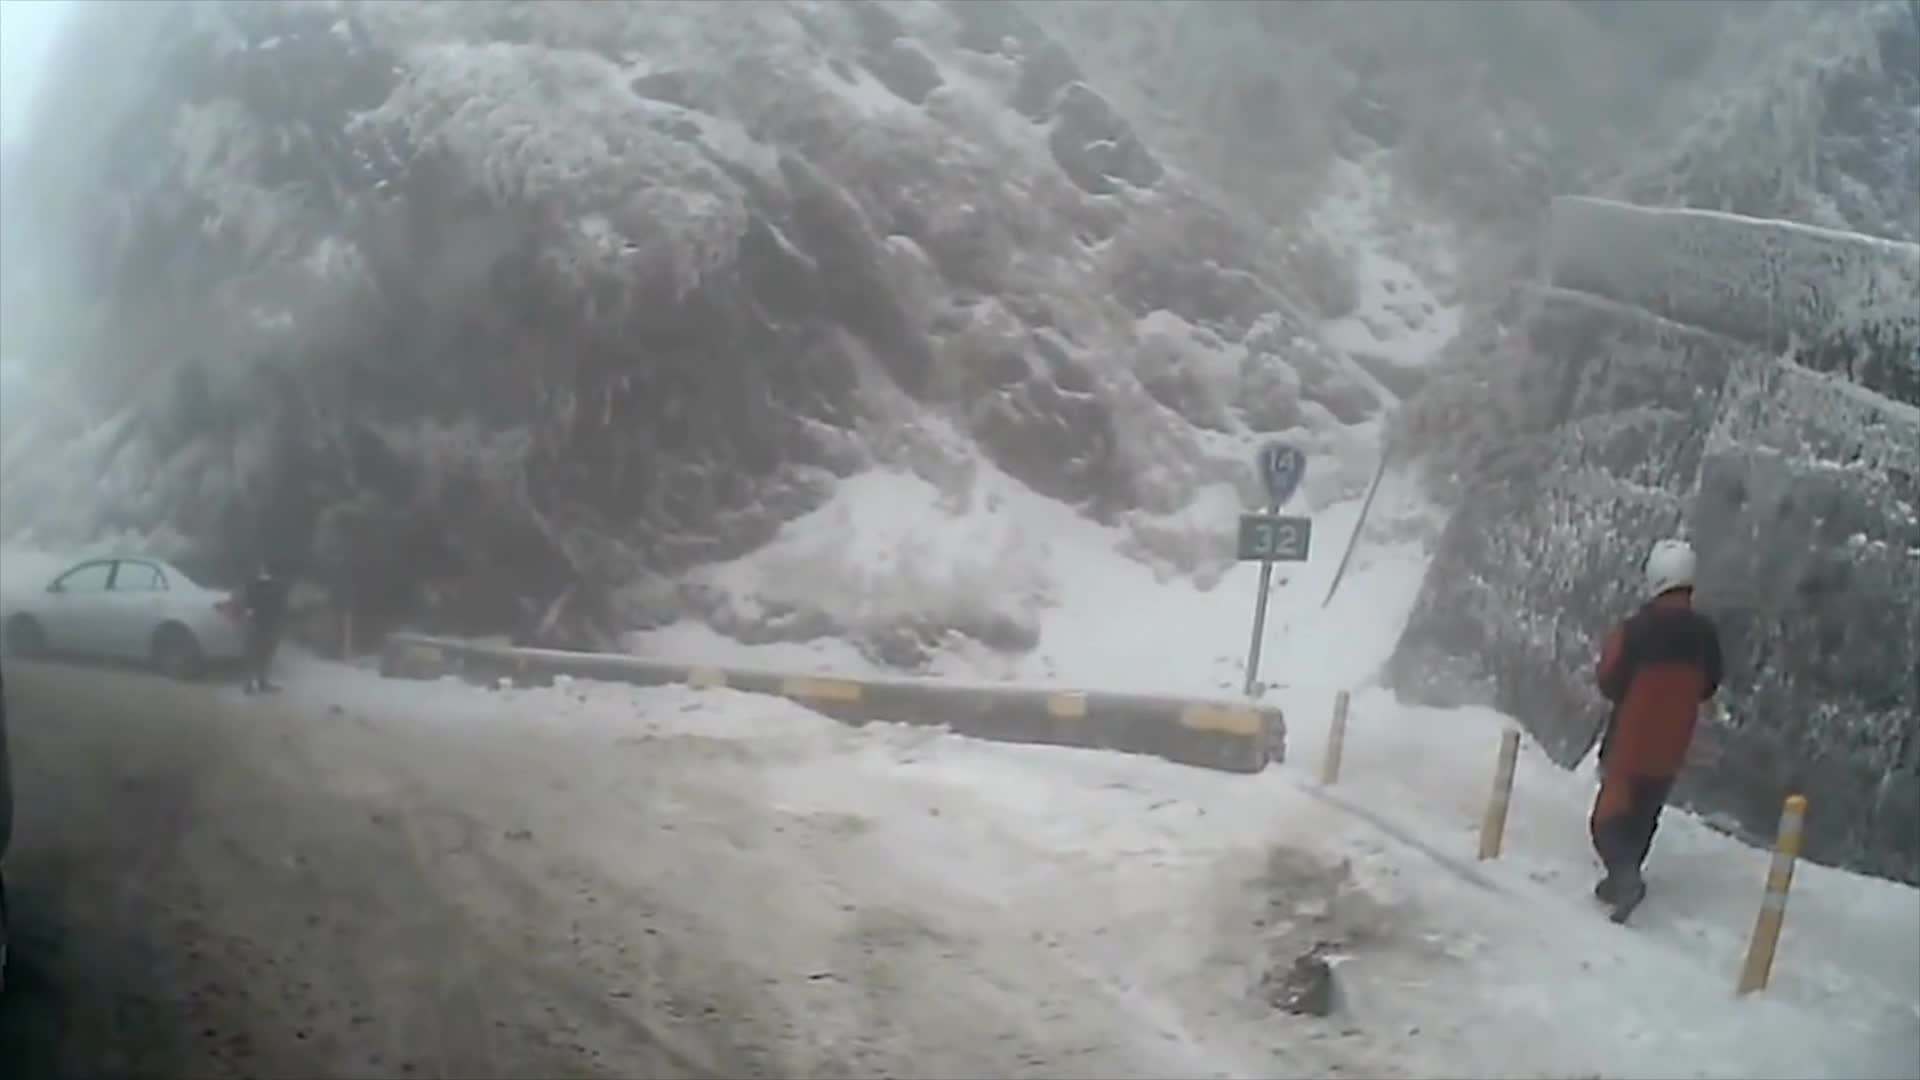pedestrian: (1584, 535, 1722, 923), (234, 566, 288, 698)
vehicle: (0, 551, 258, 680)
